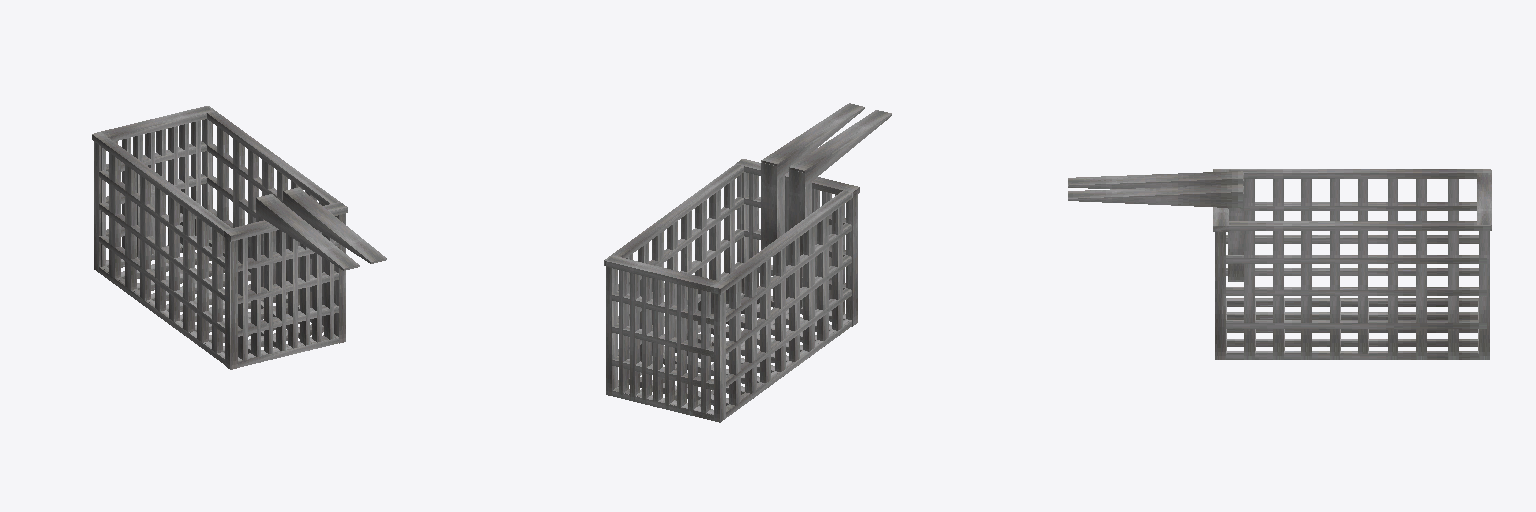
3 renders of one model, left to right at view 1: azimuth 30°, elevation 25°; view 2: azimuth 150°, elevation 25°; view 3: azimuth 270°, elevation 25°, orthographic.
Visible parts, largest first — view 1: polySurface95; view 2: polySurface95; view 3: polySurface95.
Boxes of the visible parts, x1=… form: polySurface95: x1=92, y1=106, x2=386, y2=369; polySurface95: x1=604, y1=103, x2=891, y2=422; polySurface95: x1=1068, y1=169, x2=1491, y2=359.
Size of the model in its own units: 0.318 by 0.3946 by 0.996.
1 materials, 1 textured.